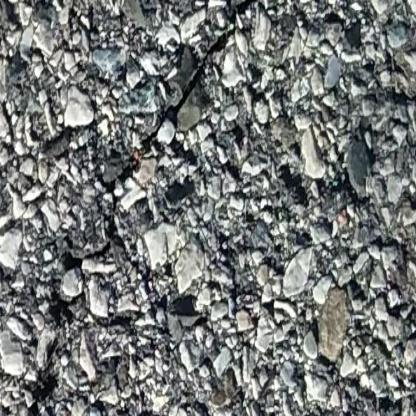Cracks: (18, 0, 280, 416)
